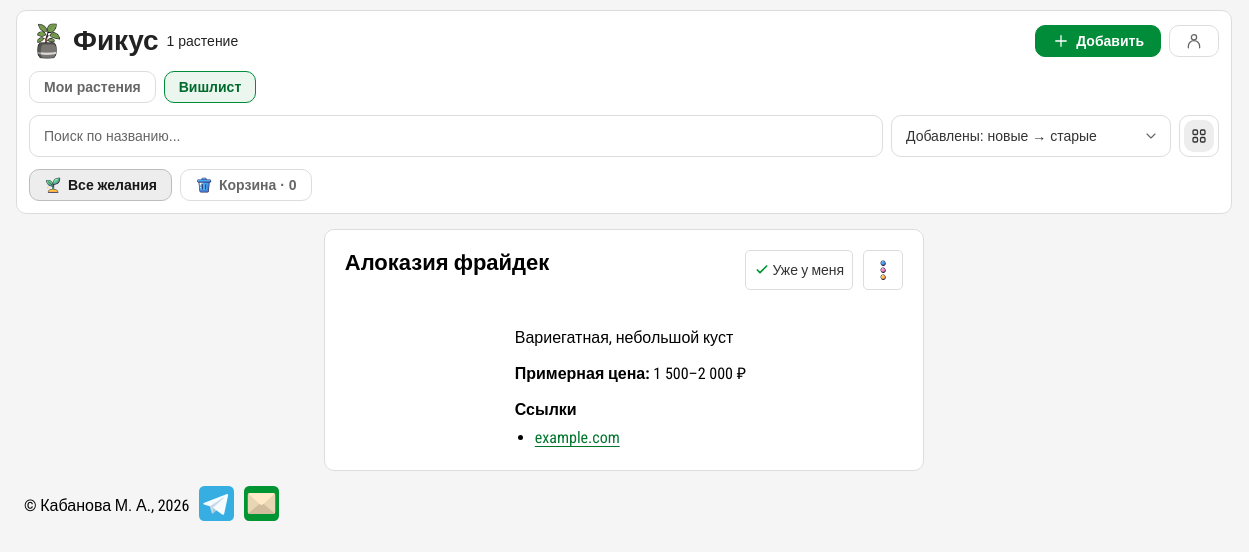
it: separates wishlist and collection, displays details and hides care filters
Expected: the list item "Алоказия фрайдек" is shown, [324,229,924,471]
Expected: the list item "Мой фикус" is not shown
Click the link "Мои растения" at (92, 87), box [29,71,156,103]
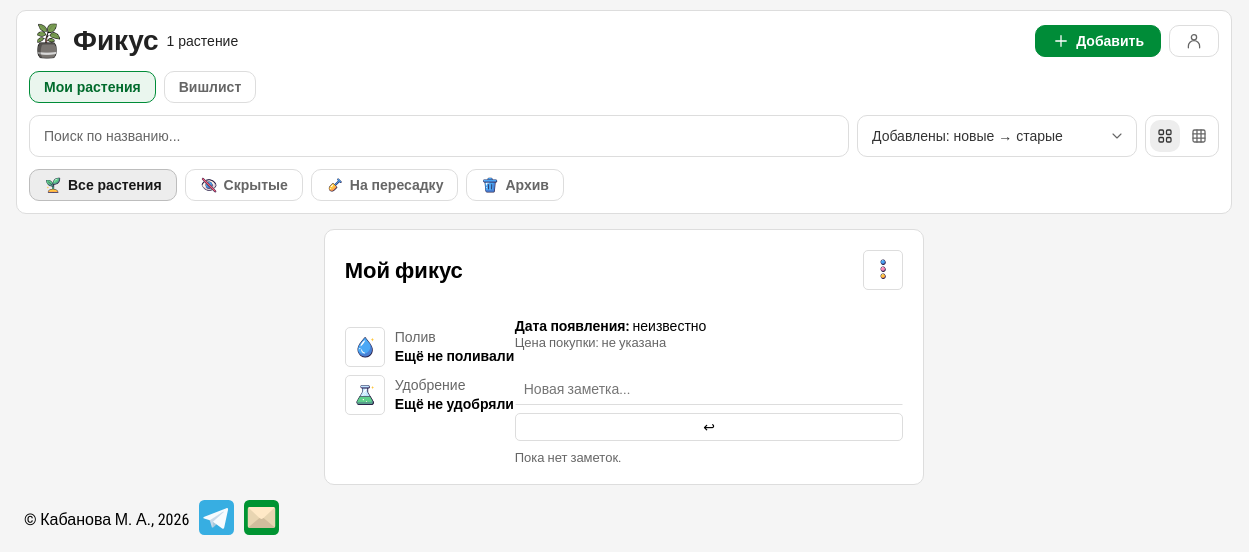
Result: the list item "Мой фикус" is shown at [324,229,924,484]
Result: the heading "Алоказия фрайдек" is gone
